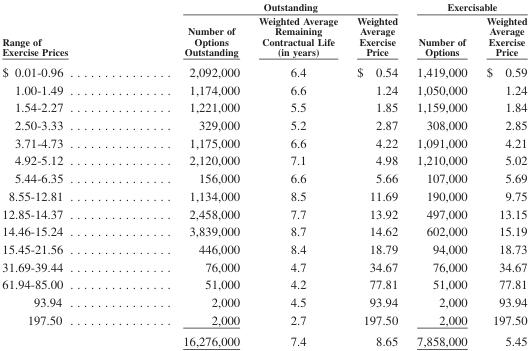table: (1, 0, 526, 347)
table column: (124, 0, 248, 347), (1, 0, 124, 347), (248, 0, 346, 347), (406, 0, 476, 347), (346, 0, 406, 347), (476, 0, 526, 347)
table column header: (1, 0, 526, 60)
table row: (1, 13, 526, 60), (1, 60, 526, 80), (1, 310, 526, 330), (1, 80, 526, 98), (1, 115, 526, 133), (1, 133, 526, 151), (1, 151, 526, 169), (1, 186, 526, 204), (1, 204, 526, 222), (1, 239, 526, 257), (1, 257, 526, 275), (1, 292, 526, 310), (1, 98, 526, 115), (1, 169, 526, 186), (1, 222, 526, 239), (1, 275, 526, 292), (1, 330, 526, 347), (1, 0, 526, 13)
table spanning cell: (1, 0, 124, 60), (124, 0, 406, 13), (406, 0, 526, 13)
